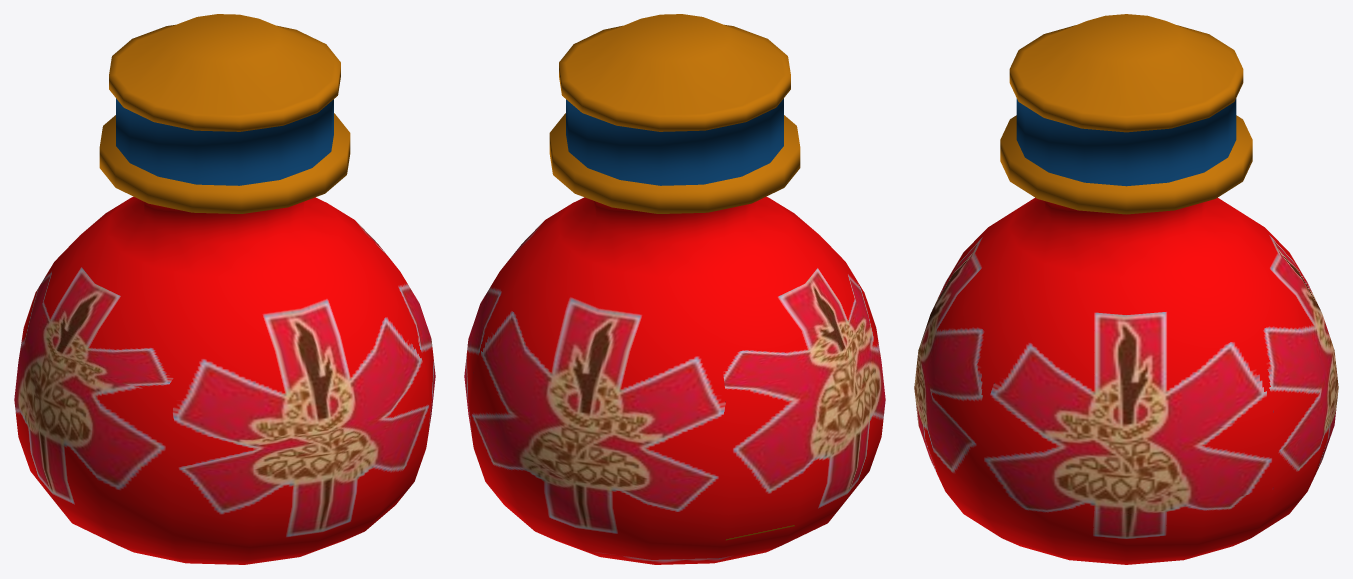
The model's file is potion.fbx.
The picture shows the model from 3 angles, left to right: view 1: azimuth 30°, elevation 25°; view 2: azimuth 150°, elevation 25°; view 3: azimuth 270°, elevation 25°; orthographic projection.
Visible parts, largest first — view 1: Sphere; view 2: Sphere; view 3: Sphere.
Boxes of the visible parts, x1,y1,x2,y2 form: Sphere: (14,14,435,564); Sphere: (464,14,885,564); Sphere: (914,14,1338,564).
Size of the model in its own units: 200 by 246 by 200.
